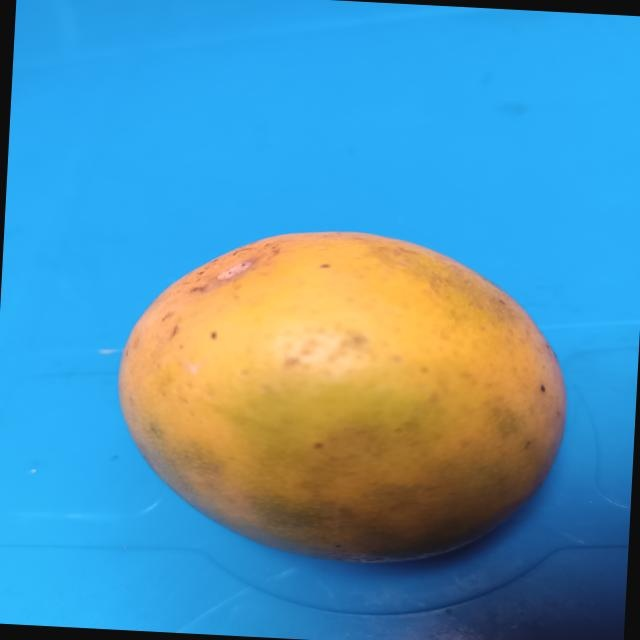agrume: (103, 205, 581, 576)
